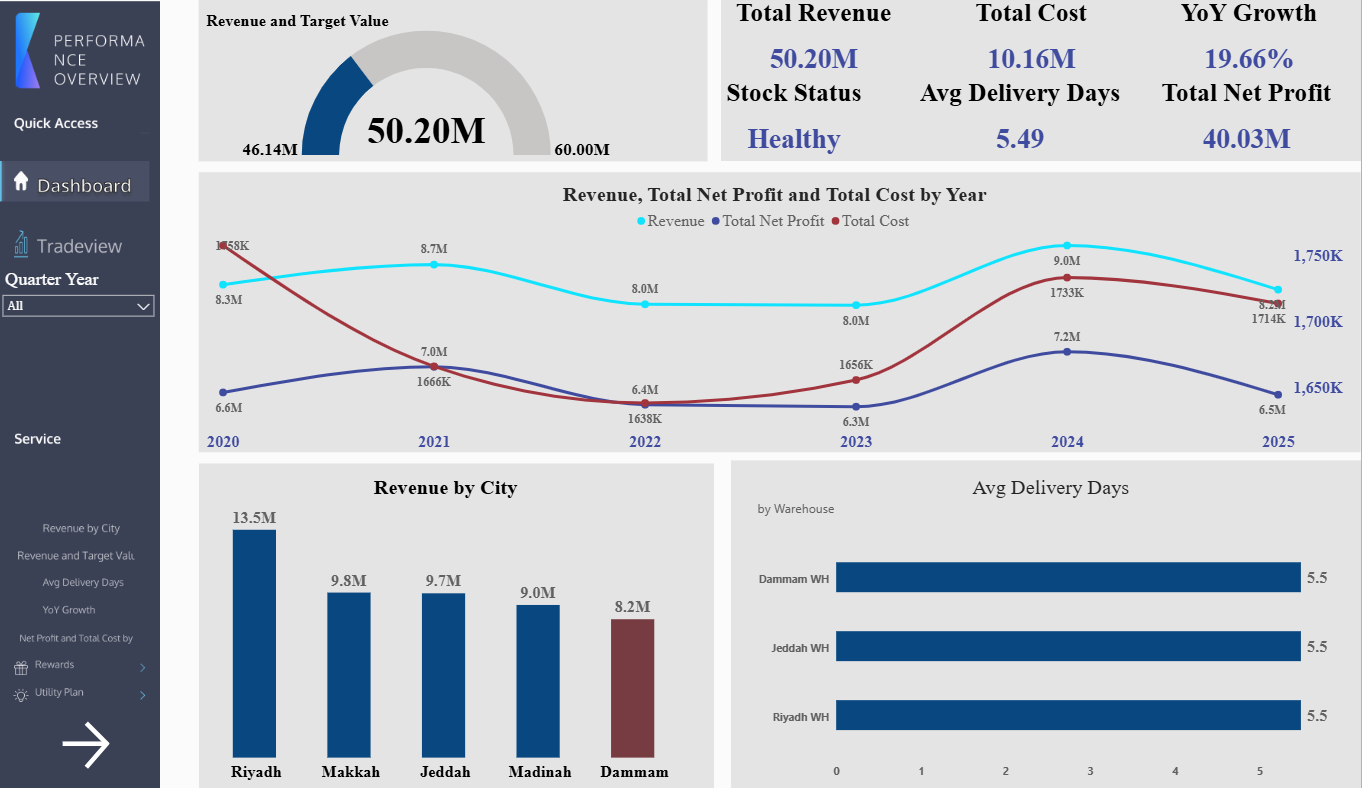

The page's visual inventory and layout, read from the dashboard file:
{"tool":"powerbi","page":{"name":"Page 1","canvas":[1783,1040],"ordinal":0},"visuals":[{"type":"cardVisual","fields":{"Data":["ALL_Measure.Revenue","ALL_Measure.Total Cost","ALL_Measure.YoY Growth %"]},"box":[928,0,848,96],"z":0},{"type":"cardVisual","fields":{"Data":["ALL_Measure.Stock Status","ALL_Measure.Avg Delivery Days","ALL_Measure.Total Net Profit"]},"box":[896,96,880,112],"z":2},{"type":"lineChart","fields":{"Category":["Calendar.Year"],"Y":["ALL_Measure.Revenue","ALL_Measure.Total Net Profit"],"Y2":["ALL_Measure.Total Cost"]},"box":[256,224,1520,384],"z":3},{"type":"clusteredBarChart","fields":{"Category":["Inventory(1).Warehouse"],"Y":["ALL_Measure.Avg Delivery Days"]},"box":[976,608,800,432],"z":5},{"type":"clusteredColumnChart","fields":{"Category":["Customers(1).City"],"Y":["ALL_Measure.Revenue"]},"box":[240,608,688,432],"z":6},{"type":"gauge","fields":{"MinValue":["ALL_Measure.Target Value"],"Y":["ALL_Measure.Revenue"]},"box":[256,0,608,224],"z":7},{"type":"actionButton","box":[0,912,224,128],"z":8},{"type":"slicer","fields":{"Values":["Calendar.Year","Calendar.Quarter"]},"box":[0,352,208,96],"z":9}]}

Visuals, with their boxes on the page's 1783x1040 design canvas (x1, y1, x2, y2). These are canvas units, not pixel positions in the 1366x788 screenshot, which may show the page scaled, cropped or inside an application window:
cardVisual - ALL_Measure.Revenue x ALL_Measure.Total Cost: (928, 0, 1776, 96)
cardVisual - ALL_Measure.Stock Status x ALL_Measure.Avg Delivery Days: (896, 96, 1776, 208)
lineChart - Calendar.Year x ALL_Measure.Revenue: (256, 224, 1776, 608)
clusteredBarChart - Inventory(1).Warehouse x ALL_Measure.Avg Delivery Days: (976, 608, 1776, 1040)
clusteredColumnChart - Customers(1).City x ALL_Measure.Revenue: (240, 608, 928, 1040)
gauge - ALL_Measure.Target Value x ALL_Measure.Revenue: (256, 0, 864, 224)
actionButton: (0, 912, 224, 1040)
slicer - Calendar.Year x Calendar.Quarter: (0, 352, 208, 448)
